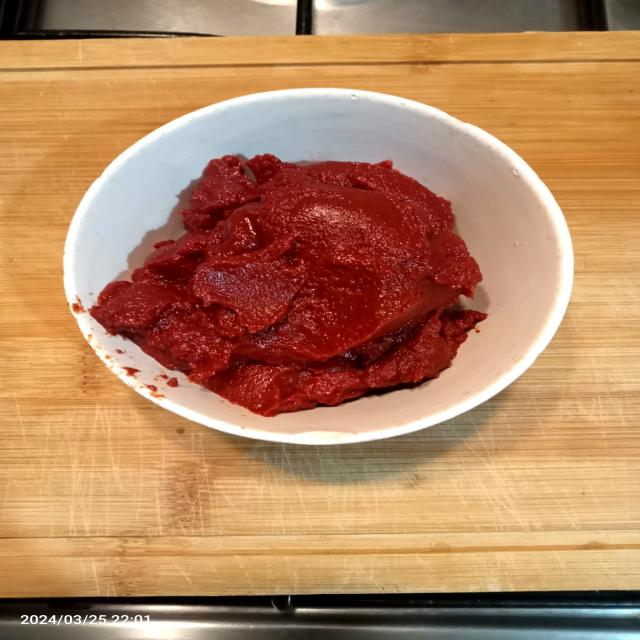tomato paste: (104, 151, 499, 414)
